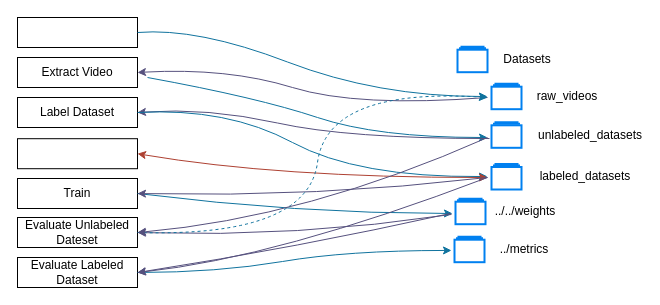
Image size: 660x305. Some labels were removed from this diagram. Here are the shapes that lost their labels. From the top down, the centre of each, then its label:
[77,32]: Record Videos
[77,153]: Merge Dataset
